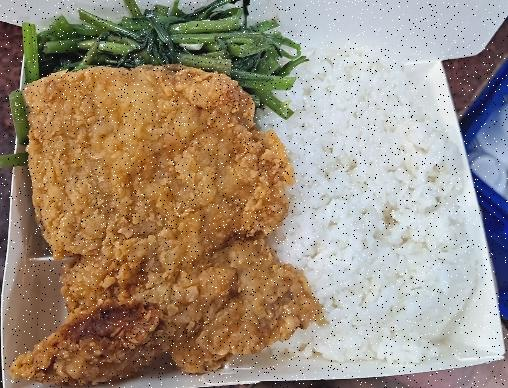box: (0, 22, 501, 388)
kara chicken leg steak: (14, 60, 296, 386)
side dish: (26, 12, 288, 76)
white rice: (285, 51, 470, 361)
